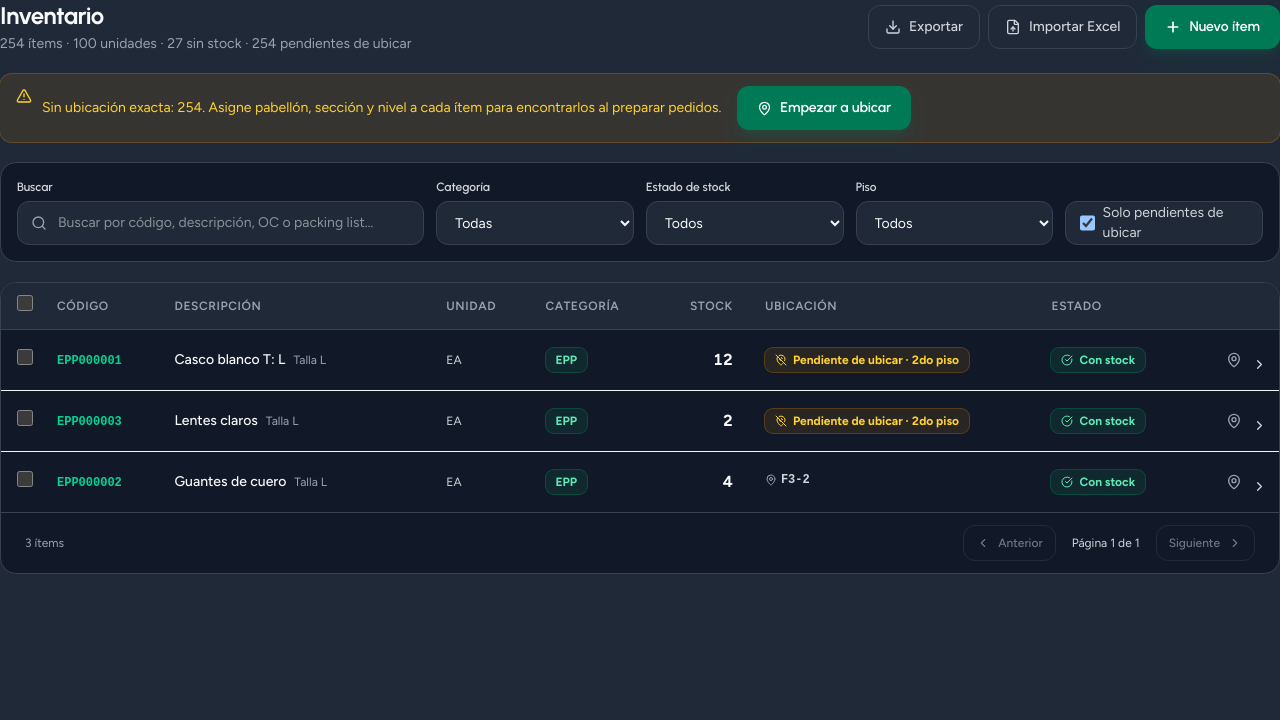
InventarioPage — «Empezar a ubicar» › con el filtro de pendientes ya activo abre directamente el primer pendiente de la lista
Check: the link "EPP000001" is shown, box [57, 354, 122, 368]
Click the button "Empezar a ubicar". click: (824, 108)
box: [737, 86, 911, 130]
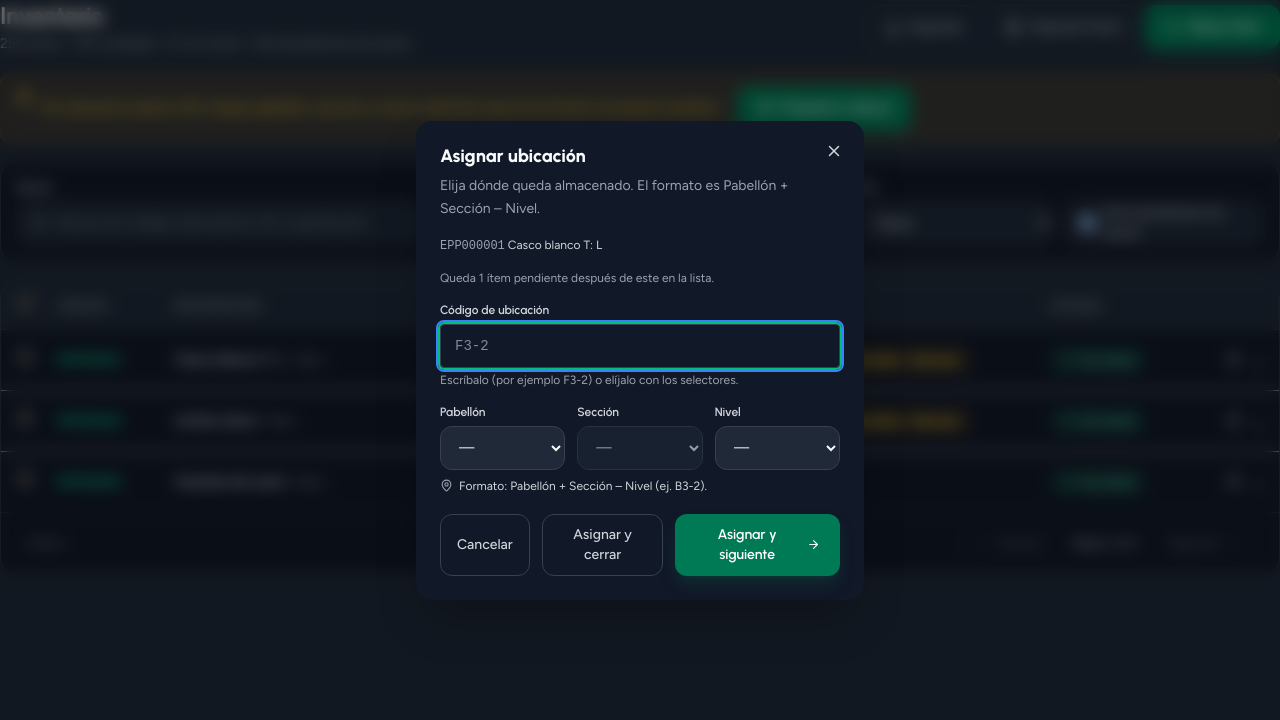
Check: the text "EPP000001" is shown, box [440, 238, 505, 252]
